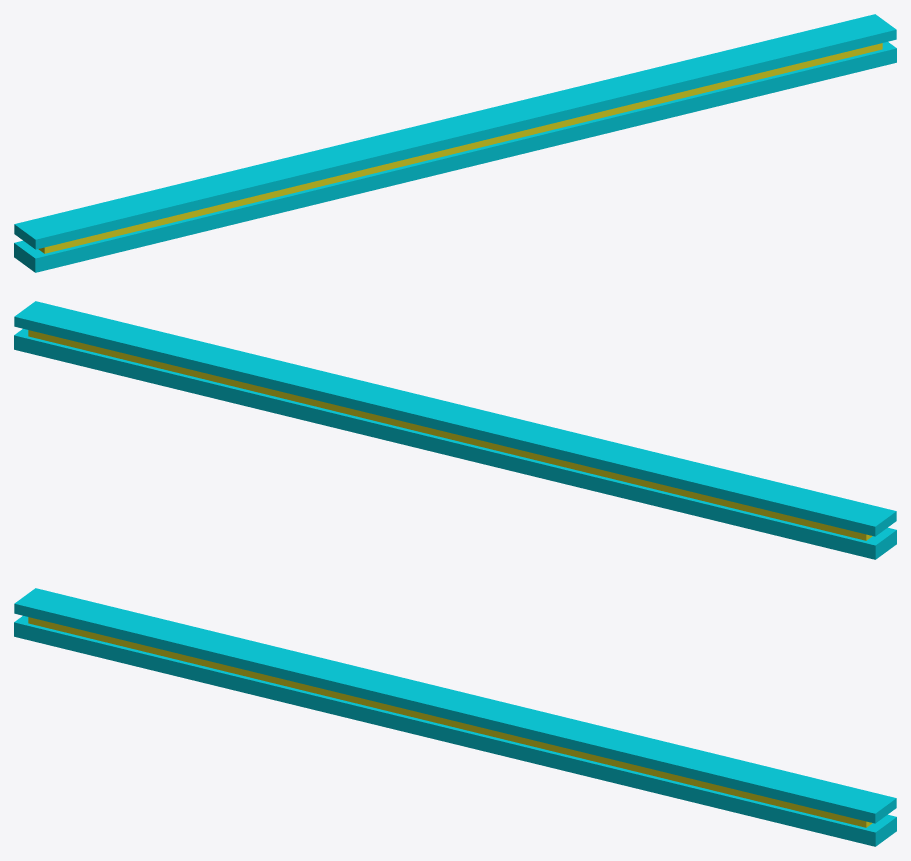
Rendered from barra_larga.fbx.
The picture shows the model from 3 angles, top to bottom: view 1: azimuth 30°, elevation 25°; view 2: azimuth 150°, elevation 25°; view 3: azimuth 330°, elevation 25°; orthographic projection.
Parts seen in each view (by area): view 1: Puerta_Arco.005; view 2: Puerta_Arco.005; view 3: Puerta_Arco.005.
Boxes of the visible parts, x1=… form: Puerta_Arco.005: x1=14, y1=14, x2=896, y2=272; Puerta_Arco.005: x1=14, y1=301, x2=896, y2=559; Puerta_Arco.005: x1=14, y1=588, x2=896, y2=846.
Size of the model in its own units: 2200 by 80.61 by 94.81.
